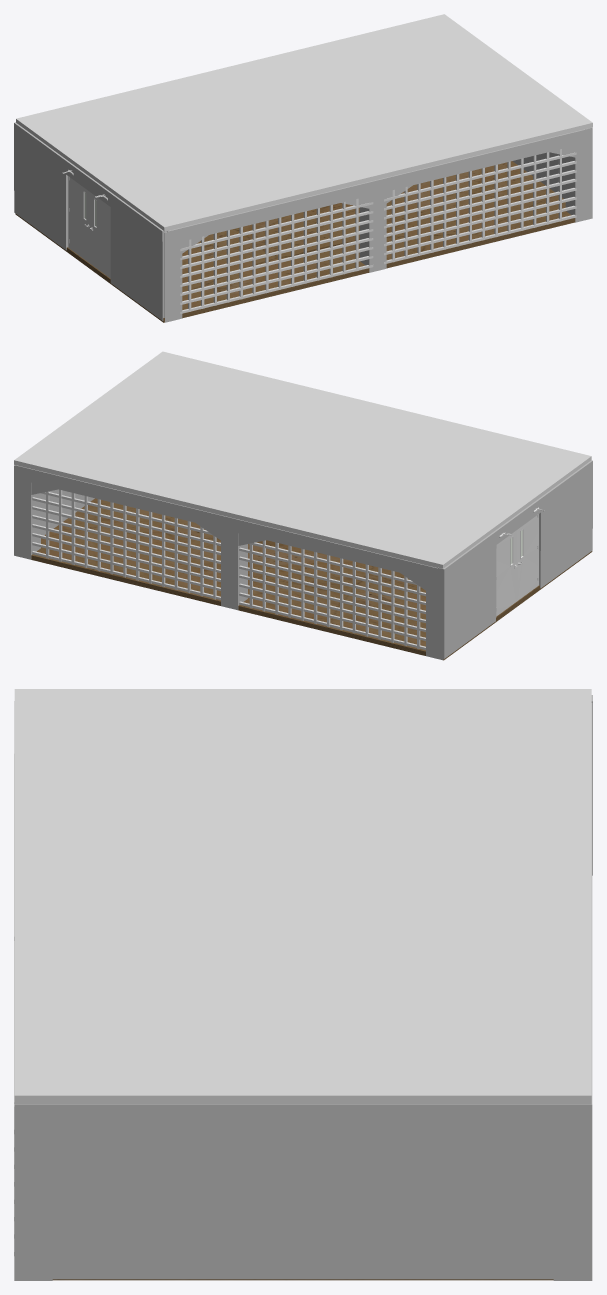
File: Zimmer_ohne_Saeule.fbx
The picture shows the model from 3 angles, top to bottom: view 1: azimuth 30°, elevation 25°; view 2: azimuth 150°, elevation 25°; view 3: azimuth 270°, elevation 25°; orthographic projection. The views are drawn at different scales.
Parts seen in each view (by area): view 1: Cube.021; view 2: Cube.021; view 3: Cube.021.
Boxes of the visible parts, left/top/right/bottom form: Cube.021: left=14, top=14, right=592, bottom=322; Cube.021: left=14, top=351, right=592, bottom=660; Cube.021: left=14, top=689, right=592, bottom=1280.
Bounding box in the file's own units: 17592 × 3653 × 10318.
